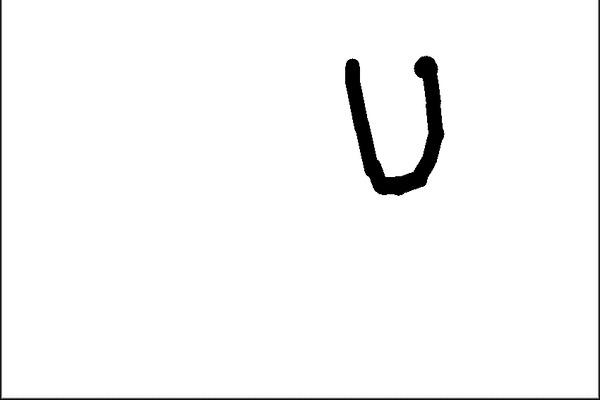U: (333, 51, 453, 197)
